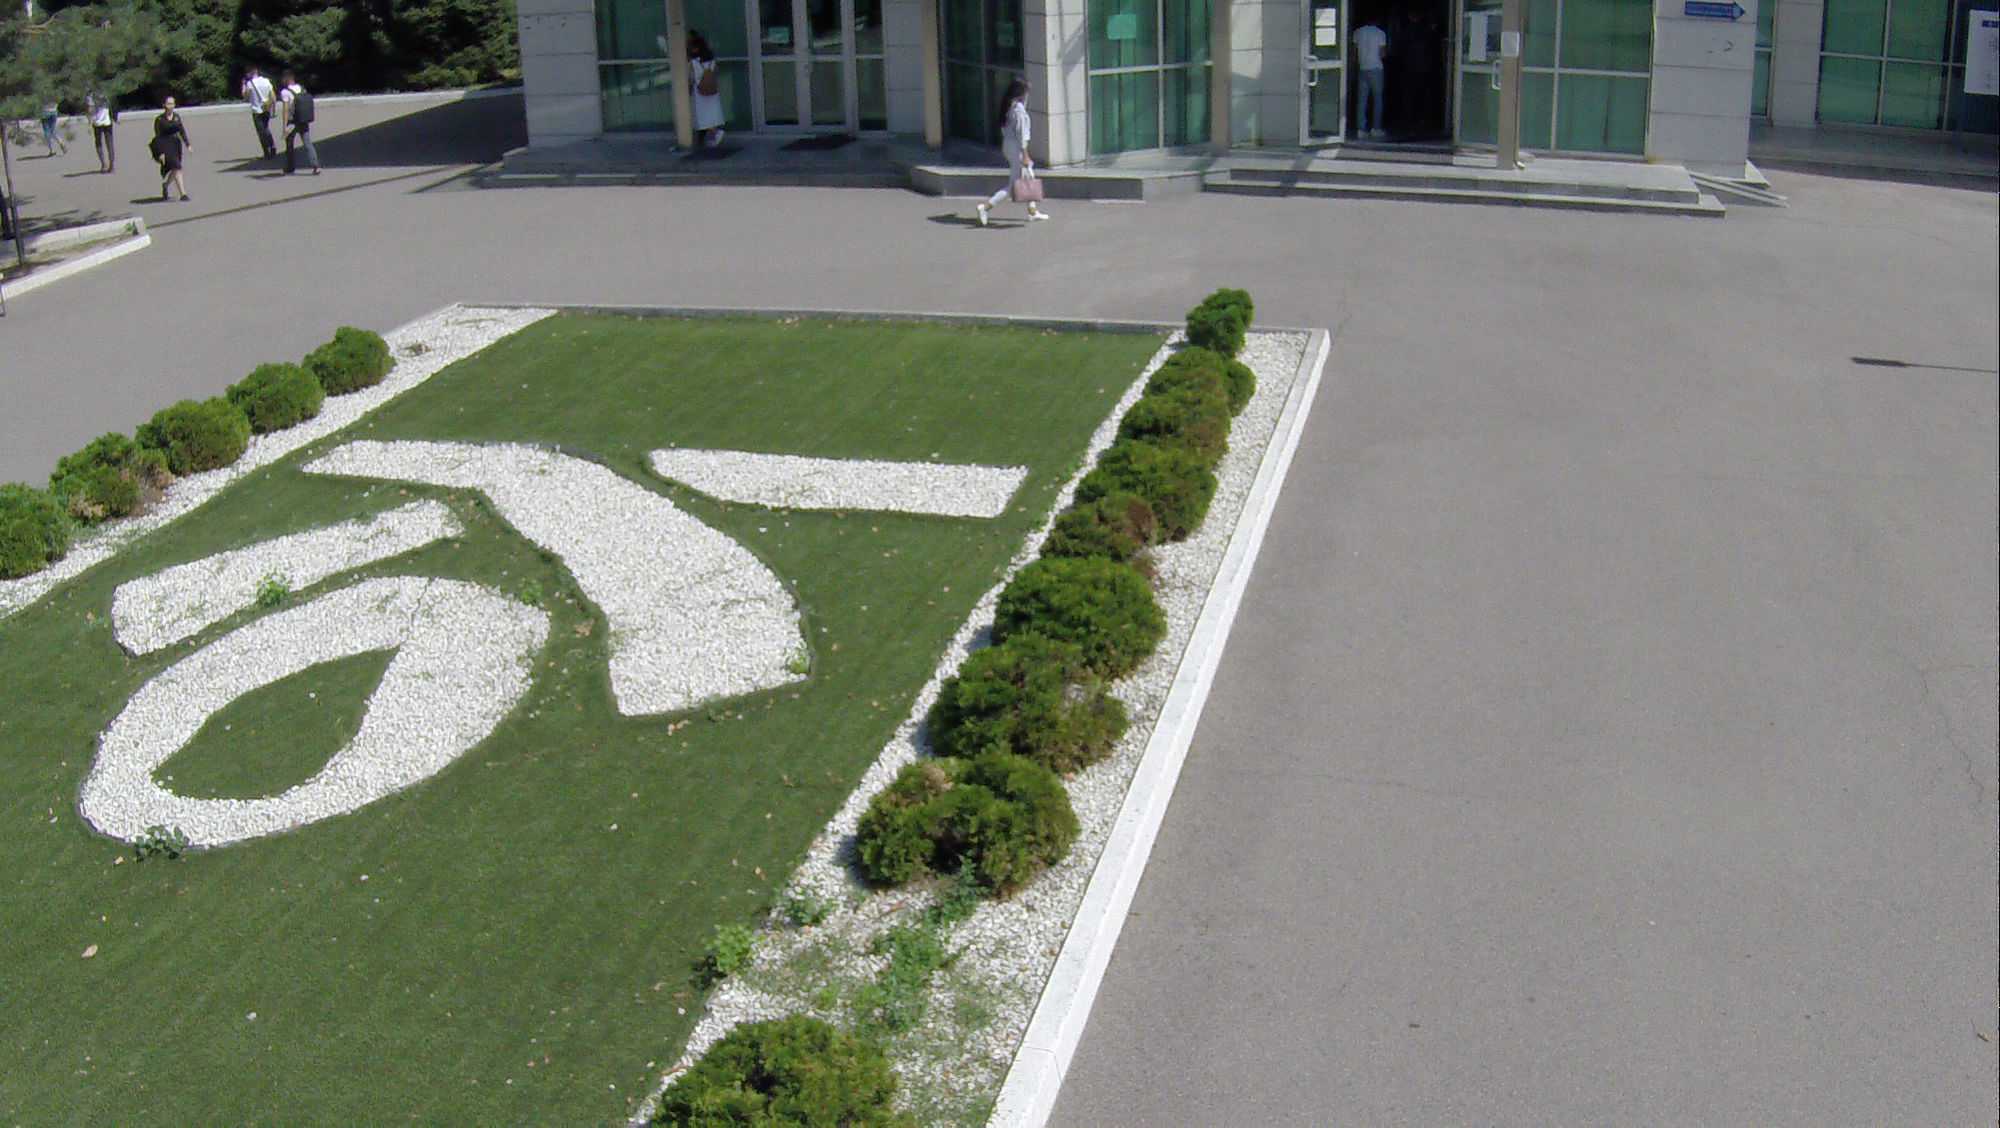person: (970, 77, 1057, 230), (1343, 17, 1393, 146), (280, 59, 328, 181), (147, 89, 196, 205), (683, 38, 731, 151), (241, 67, 279, 164)
